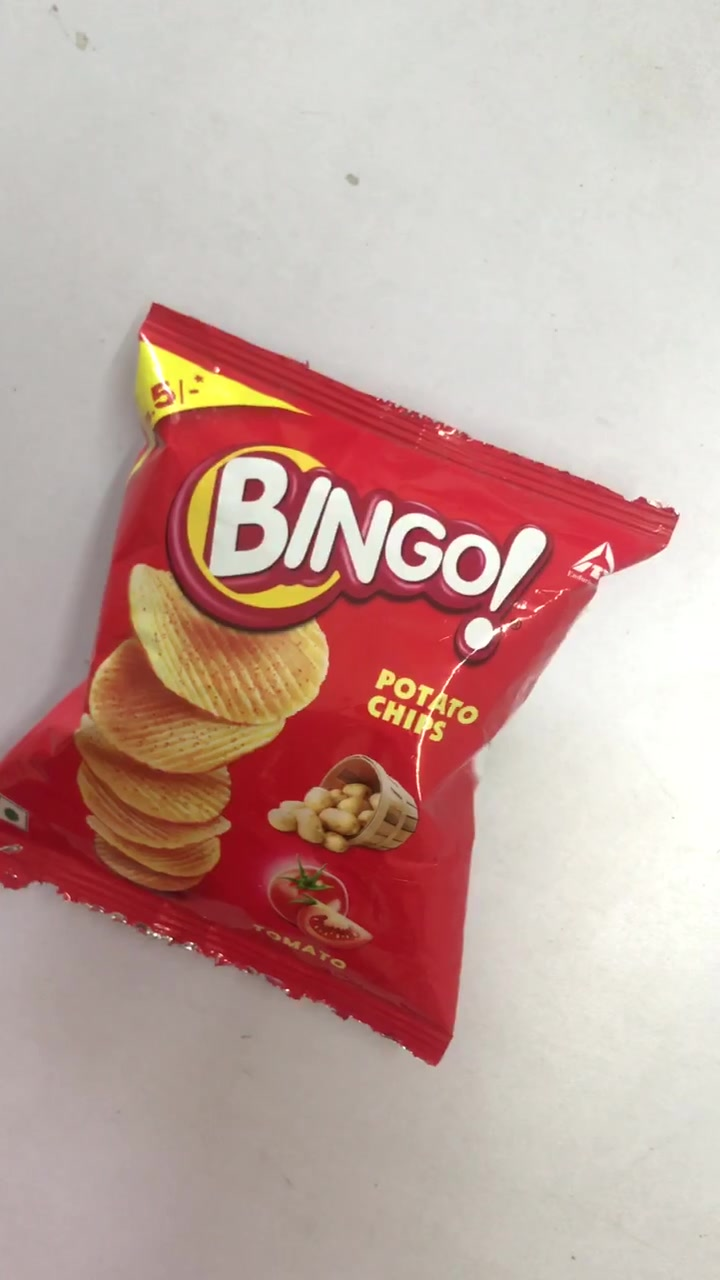Bingo: (6, 307, 681, 1067)
